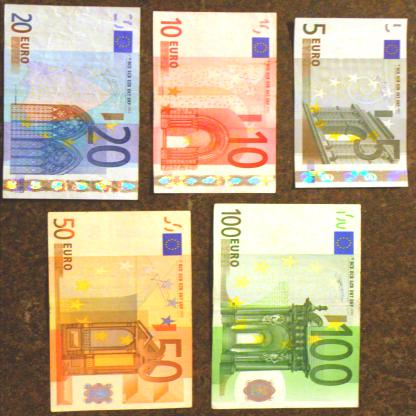euro_banknote: (183, 234, 392, 380), (21, 240, 222, 382), (124, 40, 307, 166), (267, 48, 416, 161)
